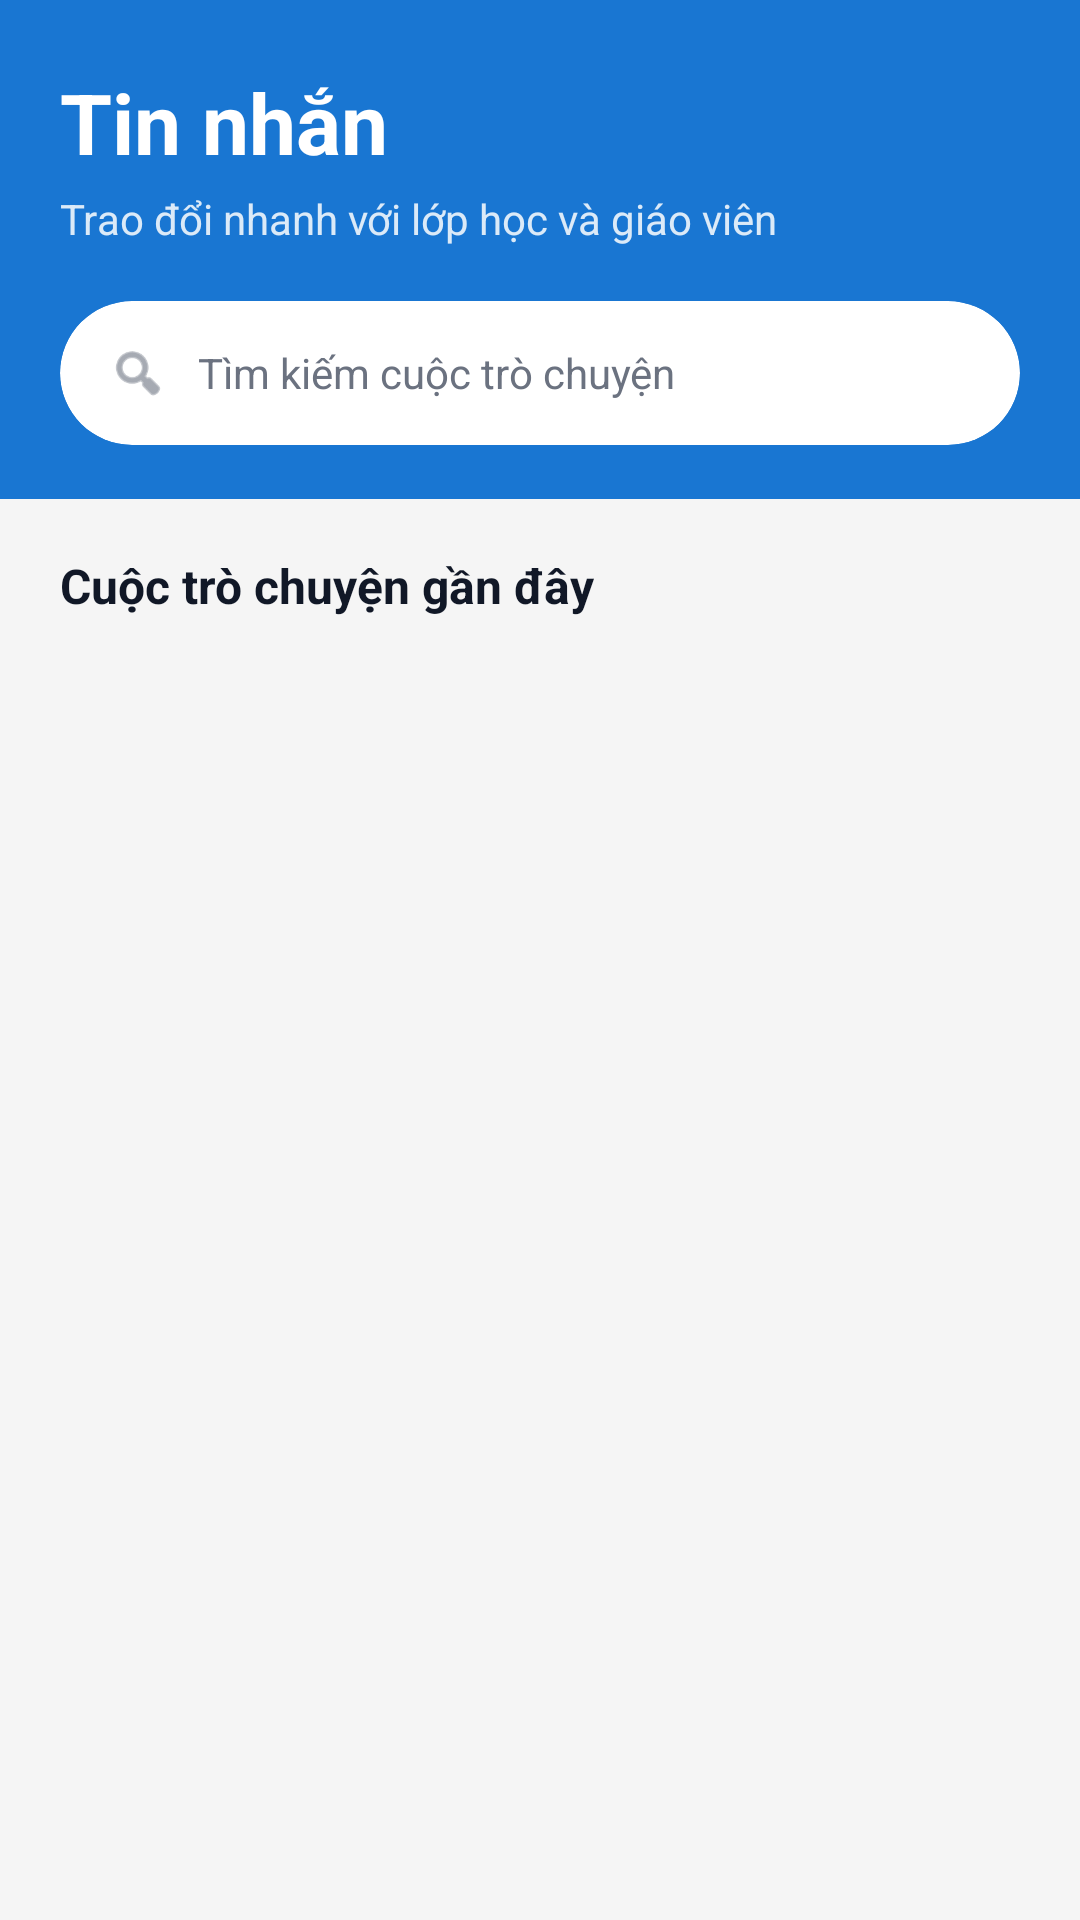

Icon bounding boxes for this 1080*1920 phone screenshot, format (x1, y1, x2, y2):
search: (116, 351, 160, 395)
